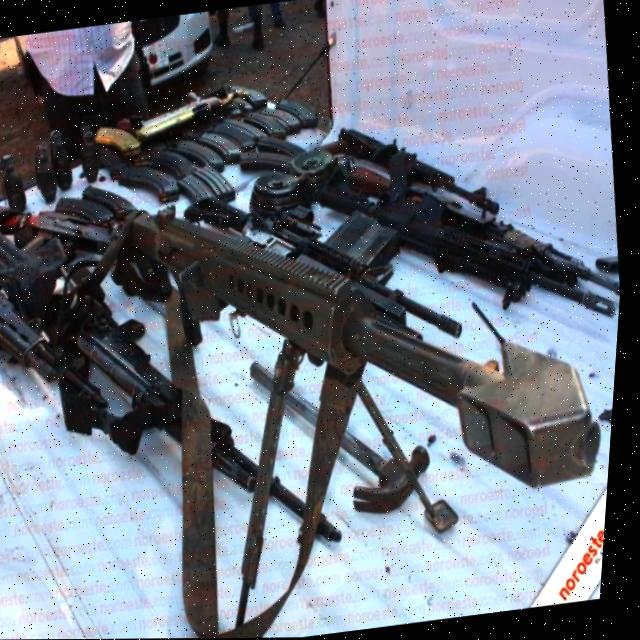firearm: (109, 152, 625, 535), (61, 270, 367, 576), (308, 125, 631, 351), (180, 164, 475, 371), (313, 107, 506, 237), (0, 251, 121, 423)
grenade: (0, 146, 36, 211), (28, 139, 63, 202), (71, 118, 103, 178), (49, 126, 75, 191)
knife: (0, 187, 120, 267)
